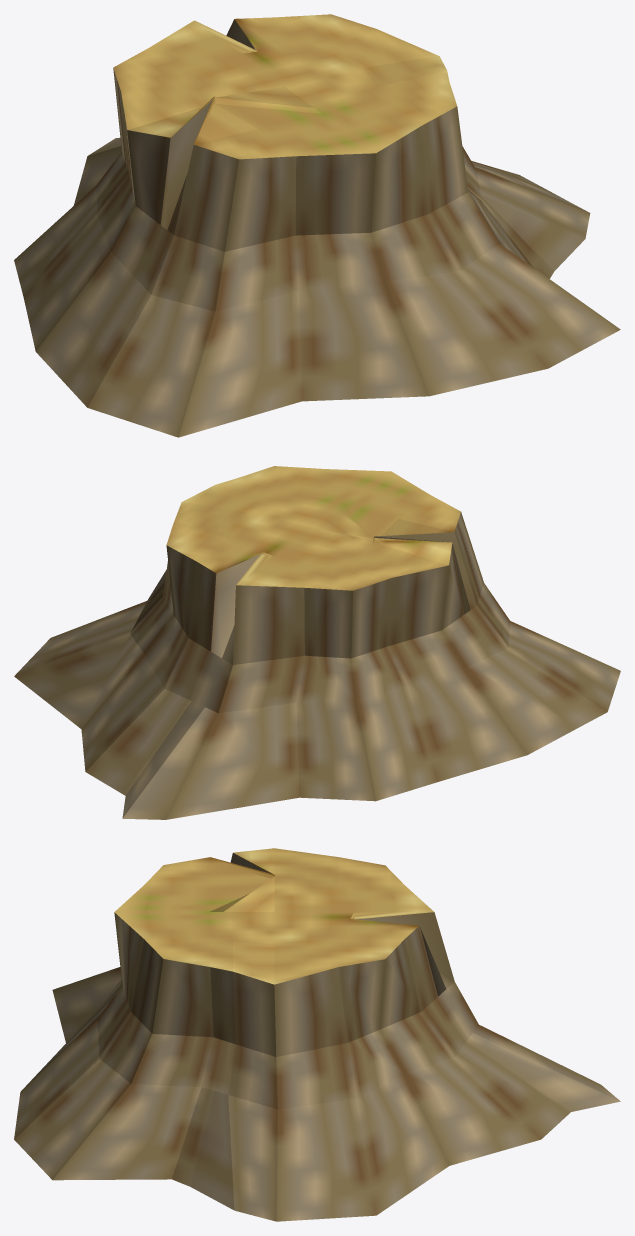
The model's file is Poly_Stump_01.obj.
3 views of the same model, one above another, from view 1: azimuth 30°, elevation 25°; view 2: azimuth 150°, elevation 25°; view 3: azimuth 270°, elevation 25° (orthographic). The views are drawn at different scales.
Parts seen in each view (by area): view 1: Cube; view 2: Cube; view 3: Cube.
Boxes of the visible parts, x1=… form: Cube: x1=14, y1=14, x2=620, y2=437; Cube: x1=14, y1=466, x2=620, y2=819; Cube: x1=14, y1=848, x2=620, y2=1221.
Size of the model in its own units: 1.45 by 0.5095 by 1.5.
1 material, 1 textured.
